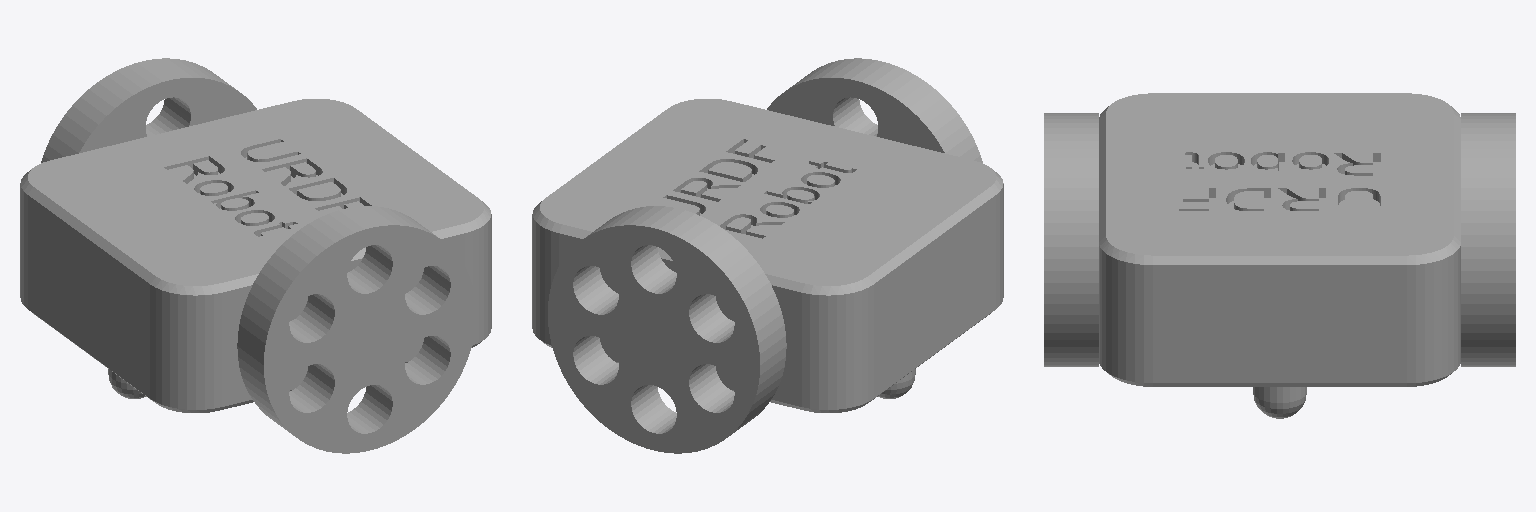
URDF robot description (test1):
<?xml version="1.0" ?>
<!-- =================================================================================== -->
<!-- |    This document was autogenerated by xacro from [local-path]/urdf_test2_robot/test1_description/urdf/test1.xacro | -->
<!-- |    EDITING THIS FILE BY HAND IS NOT RECOMMENDED                                 | -->
<!-- =================================================================================== -->
<robot name="test1">
  <material name="silver">
    <color rgba="0.700 0.700 0.700 1.000"/>
  </material>
  <transmission name="Rev3_tran">
    <type>transmission_interface/SimpleTransmission</type>
    <joint name="Rev3">
      <hardwareInterface>hardware_interface/EffortJointInterface</hardwareInterface>
    </joint>
    <actuator name="Rev3_actr">
      <hardwareInterface>hardware_interface/EffortJointInterface</hardwareInterface>
      <mechanicalReduction>1</mechanicalReduction>
    </actuator>
  </transmission>
  <transmission name="Rev4_tran">
    <type>transmission_interface/SimpleTransmission</type>
    <joint name="Rev4">
      <hardwareInterface>hardware_interface/EffortJointInterface</hardwareInterface>
    </joint>
    <actuator name="Rev4_actr">
      <hardwareInterface>hardware_interface/EffortJointInterface</hardwareInterface>
      <mechanicalReduction>1</mechanicalReduction>
    </actuator>
  </transmission>
  <gazebo>
    <plugin filename="libgazebo_ros_control.so" name="control"/>
  </gazebo>
  <gazebo reference="base_link">
    <material>Gazebo/Silver</material>
    <mu1>0.2</mu1>
    <mu2>0.2</mu2>
    <selfCollide>true</selfCollide>
    <gravity>true</gravity>
  </gazebo>
  <gazebo reference="left_wheel_1">
    <material>Gazebo/Silver</material>
    <mu1>0.2</mu1>
    <mu2>0.2</mu2>
    <selfCollide>true</selfCollide>
  </gazebo>
  <gazebo reference="right_wheel_1">
    <material>Gazebo/Silver</material>
    <mu1>0.2</mu1>
    <mu2>0.2</mu2>
    <selfCollide>true</selfCollide>
  </gazebo>
  <link name="base_link">
    <inertial>
      <origin rpy="0 0 0" xyz="-1.938746720440143e-05 0.049993889948677095 0.03464829620552879"/>
      <mass value="3.4039266579014527"/>
      <inertia ixx="0.003191" ixy="-0.0" ixz="1e-06" iyy="0.003822" iyz="0.0" izz="0.006077"/>
    </inertial>
    <visual>
      <origin rpy="0 0 0" xyz="0 0 0"/>
      <geometry>
        <mesh filename="package://test1_description/meshes/base_link.stl" scale="0.001 0.001 0.001"/>
      </geometry>
      <material name="silver"/>
    </visual>
    <collision>
      <origin rpy="0 0 0" xyz="0 0 0"/>
      <geometry>
        <mesh filename="package://test1_description/meshes/base_link.stl" scale="0.001 0.001 0.001"/>
      </geometry>
    </collision>
  </link>
  <link name="left_wheel_1">
    <inertial>
      <origin rpy="0 0 0" xyz="-2.9825919511949906e-13 0.007499999999999993 -1.3877787807814457e-17"/>
      <mass value="0.3283062497771709"/>
      <inertia ixx="0.000113" ixy="-0.0" ixz="-0.0" iyy="0.000214" iyz="0.0" izz="0.000113"/>
    </inertial>
    <visual>
      <origin rpy="0 0 0" xyz="-0.0 -0.1 -0.035"/>
      <geometry>
        <mesh filename="package://test1_description/meshes/left_wheel_1.stl" scale="0.001 0.001 0.001"/>
      </geometry>
      <material name="silver"/>
    </visual>
    <collision>
      <origin rpy="0 0 0" xyz="-0.0 -0.1 -0.035"/>
      <geometry>
        <mesh filename="package://test1_description/meshes/left_wheel_1.stl" scale="0.001 0.001 0.001"/>
      </geometry>
    </collision>
  </link>
  <link name="right_wheel_1">
    <inertial>
      <origin rpy="0 0 0" xyz="-2.9821478619851404e-13 -0.007500000000000003 6.938893903907228e-18"/>
      <mass value="0.3283062497771708"/>
      <inertia ixx="0.000113" ixy="0.0" ixz="0.0" iyy="0.000214" iyz="0.0" izz="0.000113"/>
    </inertial>
    <visual>
      <origin rpy="0 0 0" xyz="-0.0 -0.0 -0.035"/>
      <geometry>
        <mesh filename="package://test1_description/meshes/right_wheel_1.stl" scale="0.001 0.001 0.001"/>
      </geometry>
      <material name="silver"/>
    </visual>
    <collision>
      <origin rpy="0 0 0" xyz="-0.0 -0.0 -0.035"/>
      <geometry>
        <mesh filename="package://test1_description/meshes/right_wheel_1.stl" scale="0.001 0.001 0.001"/>
      </geometry>
    </collision>
  </link>
  <joint name="Rev3" type="continuous">
    <origin rpy="0 0 0" xyz="0.0 0.1 0.035"/>
    <parent link="base_link"/>
    <child link="left_wheel_1"/>
    <axis xyz="0.0 1.0 0.0"/>
  </joint>
  <joint name="Rev4" type="continuous">
    <origin rpy="0 0 0" xyz="0.0 0.0 0.035"/>
    <parent link="base_link"/>
    <child link="right_wheel_1"/>
    <axis xyz="0.0 -1.0 0.0"/>
  </joint>
</robot>

--- Facts derived from the render (not from the file) ---
3 views of the same robot in one strip: view 1: azimuth 30°, elevation 25°; view 2: azimuth 150°, elevation 25°; view 3: azimuth 270°, elevation 25° (orthographic).
Robot: test1 — 3 links, 2 joints (2 continuous); root link base_link; default pose: every joint at zero.
Visible links, largest first — view 1: base_link, right_wheel_1, left_wheel_1; view 2: base_link, left_wheel_1, right_wheel_1; view 3: base_link, left_wheel_1, right_wheel_1.
Boxes of the visible links, x1=… form: base_link: x1=20, y1=99, x2=491, y2=412; right_wheel_1: x1=237, y1=206, x2=475, y2=453; left_wheel_1: x1=41, y1=58, x2=256, y2=162; base_link: x1=532, y1=99, x2=1003, y2=412; left_wheel_1: x1=548, y1=206, x2=786, y2=453; right_wheel_1: x1=767, y1=58, x2=982, y2=162; base_link: x1=1099, y1=93, x2=1460, y2=418; left_wheel_1: x1=1461, y1=113, x2=1515, y2=366; right_wheel_1: x1=1044, y1=113, x2=1098, y2=366.
Bounding box of the posed robot: 0.11 × 0.13 × 0.07 m (x, y, z).
3 mesh visuals loaded from 3 distinct referenced files (3 binary STL).